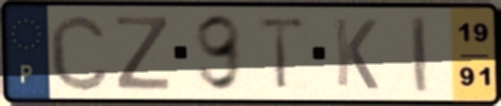9: (191, 12, 246, 94)
C: (46, 11, 112, 94)
I: (408, 12, 432, 95)
K: (331, 15, 381, 93)
T: (254, 15, 310, 92)
Z: (113, 13, 172, 92)
